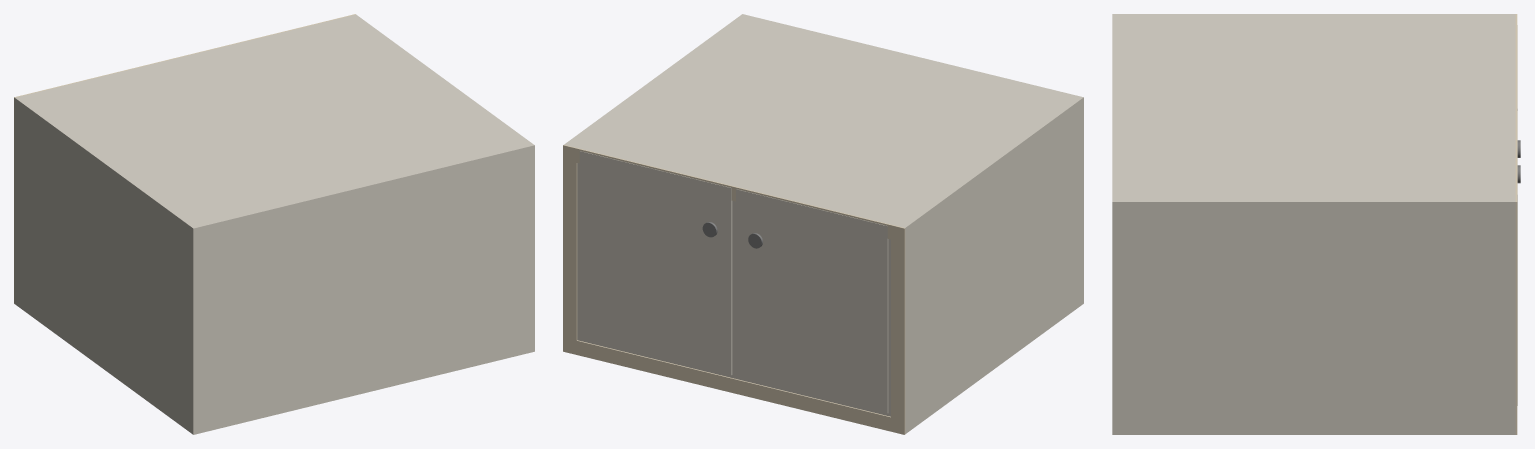
Rendered from v2-real-wardrobe-3.glb.
3 views of the same model, side by side, from view 1: azimuth 30°, elevation 25°; view 2: azimuth 150°, elevation 25°; view 3: azimuth 270°, elevation 25° (orthographic). The views are drawn at different scales.
Size of the model in its own units: 450 by 260 by 413.
